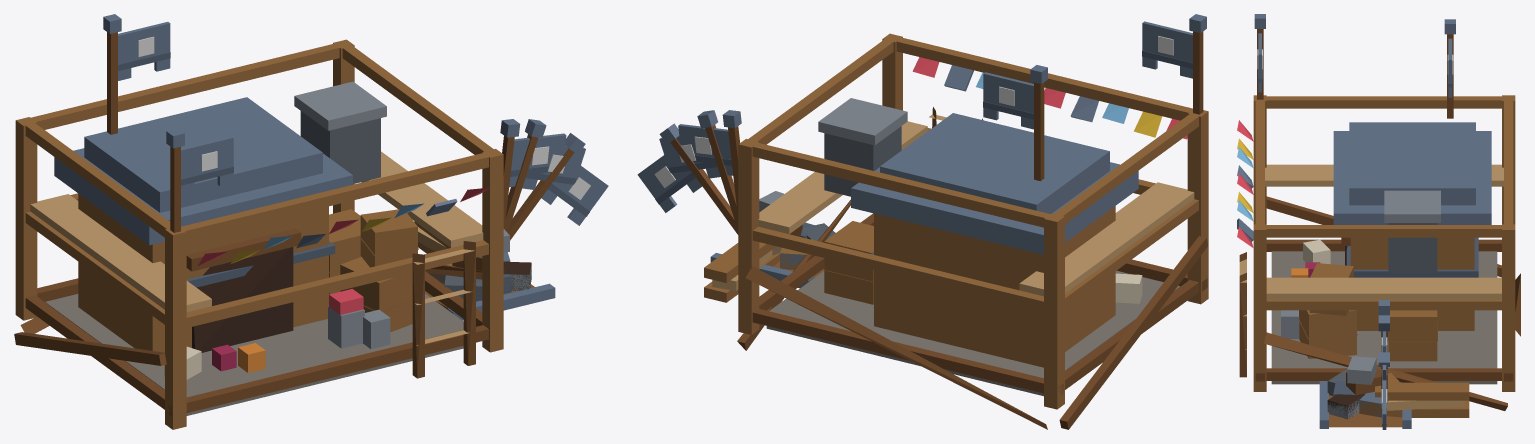
Rendered from raccoon-producer.glb.
3 views of the same model, side by side, from view 1: azimuth 30°, elevation 25°; view 2: azimuth 150°, elevation 25°; view 3: azimuth 270°, elevation 25° (orthographic). The views are drawn at different scales.
Parts seen in each view (by area): view 1: scaffold-mesh, built-mesh, dismantle-75-mesh, dismantle-50-mesh, banner, scaffold-banner, dismantle-25-mesh, dismantle-25-banner, dismantle-75-banner, flag-pole, dismantle-50-banner, dismantle-25-flag-pole (+3 smaller); view 2: scaffold-mesh, built-mesh, dismantle-75-mesh, dismantle-50-mesh, banner, scaffold-banner, dismantle-25-banner, dismantle-75-banner, flag-pole, dismantle-25-mesh, dismantle-25-flag-pole, scaffold-flag-pole (+3 smaller); view 3: scaffold-mesh, built-mesh, dismantle-25-mesh, dismantle-50-mesh, dismantle-75-mesh, flag-pole, scaffold-flag-pole, banner, scaffold-banner, dismantle-25-banner.
Part boxes in pixels (x1,y1,x2,y2): scaffold-mesh: (14, 39, 503, 429); built-mesh: (54, 81, 418, 379); dismantle-75-mesh: (78, 203, 555, 369); dismantle-50-mesh: (78, 260, 553, 370); banner: (118, 22, 170, 80); scaffold-banner: (181, 136, 233, 195); dismantle-25-mesh: (214, 229, 554, 370); dismantle-25-banner: (541, 158, 608, 225); dismantle-75-banner: (509, 133, 566, 187); flag-pole: (103, 14, 121, 134); dismantle-50-banner: (522, 142, 585, 194); dismantle-25-flag-pole: (508, 133, 585, 240); scaffold-mesh: (704, 33, 1208, 429); built-mesh: (766, 98, 1142, 396); dismantle-75-mesh: (770, 215, 1134, 351); dismantle-50-mesh: (711, 235, 1141, 350); banner: (983, 72, 1033, 129); scaffold-banner: (1142, 21, 1192, 78); dismantle-25-banner: (637, 149, 702, 212); dismantle-75-banner: (678, 124, 733, 175); flag-pole: (1030, 65, 1047, 181); dismantle-25-mesh: (710, 191, 835, 287); dismantle-25-flag-pole: (659, 123, 738, 234); scaffold-flag-pole: (1189, 14, 1206, 114); scaffold-mesh: (1237, 95, 1520, 417); built-mesh: (1291, 122, 1491, 360); dismantle-25-mesh: (1286, 333, 1411, 428); dismantle-50-mesh: (1281, 244, 1411, 428); dismantle-75-mesh: (1271, 243, 1497, 428); flag-pole: (1444, 19, 1455, 118); scaffold-flag-pole: (1254, 14, 1265, 99); banner: (1447, 38, 1453, 97); scaffold-banner: (1257, 33, 1262, 92); dismantle-25-banner: (1381, 380, 1387, 429).
Bounding box in the file's own units: 2.65 × 1.64 × 1.51.
